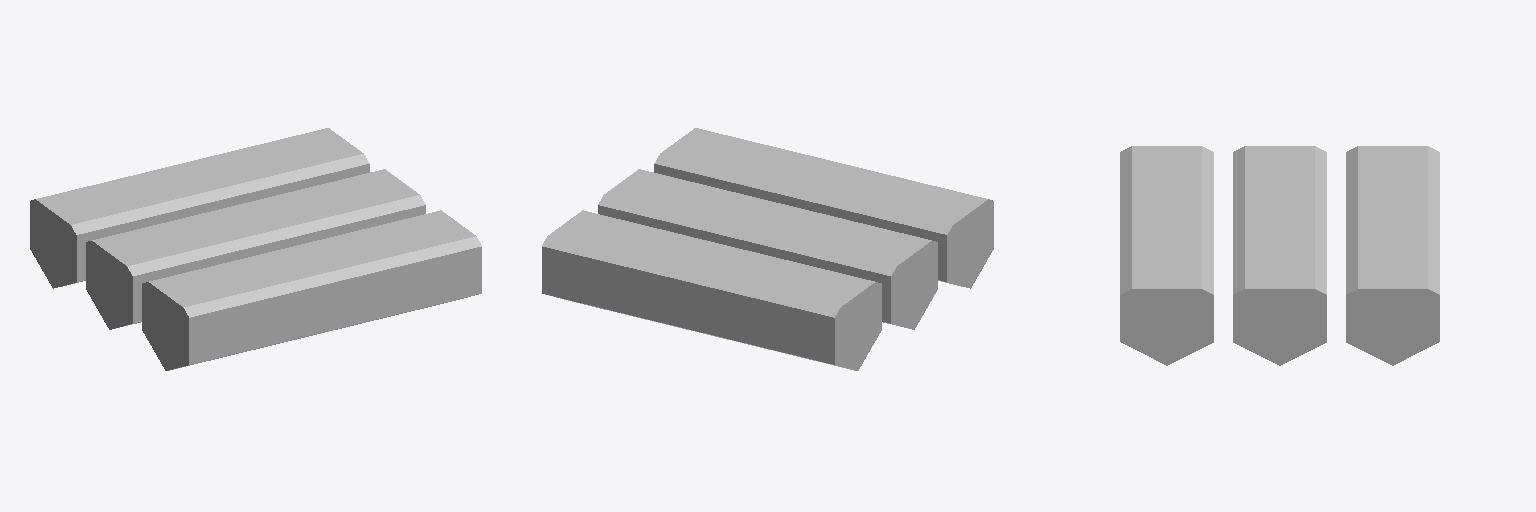
Rendered from Prop_Bridge_Log_Middle.obj.
The picture shows the model from 3 angles: view 1: azimuth 30°, elevation 25°; view 2: azimuth 150°, elevation 25°; view 3: azimuth 270°, elevation 25°; orthographic projection.
Visible parts, largest first — view 1: object2, object3, object1; view 2: object3, object2, object1; view 3: object1, object2, object3.
Part boxes in pixels (x1,y1,x2,y2): object2: (142,210,481,370); object3: (30,128,369,288); object1: (86,169,425,329); object3: (542,210,881,370); object2: (654,128,993,288); object1: (598,169,937,329); object1: (1233,146,1326,365); object2: (1120,146,1213,365); object3: (1346,146,1439,365).
Size of the model in its own units: 1 by 0.25 by 0.9444.